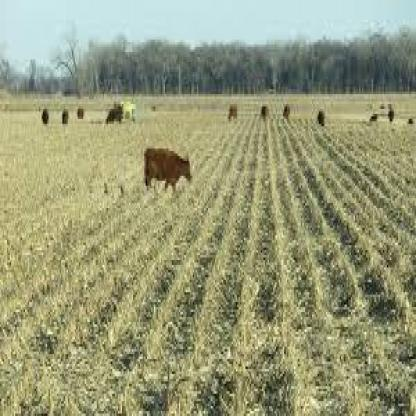cow: (143, 145, 191, 194), (106, 104, 123, 124), (227, 102, 238, 122), (316, 109, 326, 129), (260, 104, 270, 121), (283, 103, 291, 120)
